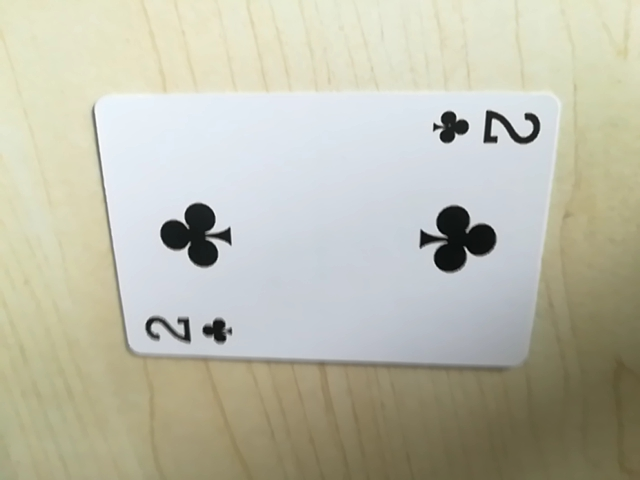mh 2: (429, 101, 544, 154), (141, 308, 237, 353)
